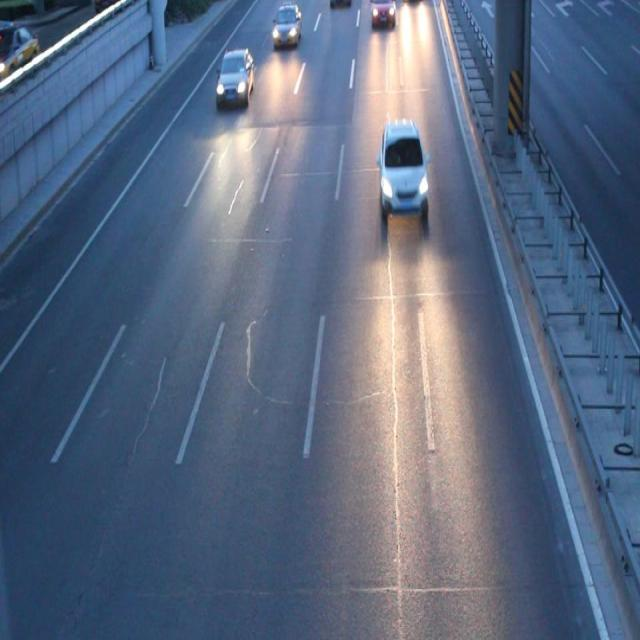car: (376, 120, 428, 217), (216, 51, 253, 108), (271, 2, 301, 48), (370, 1, 395, 27)
